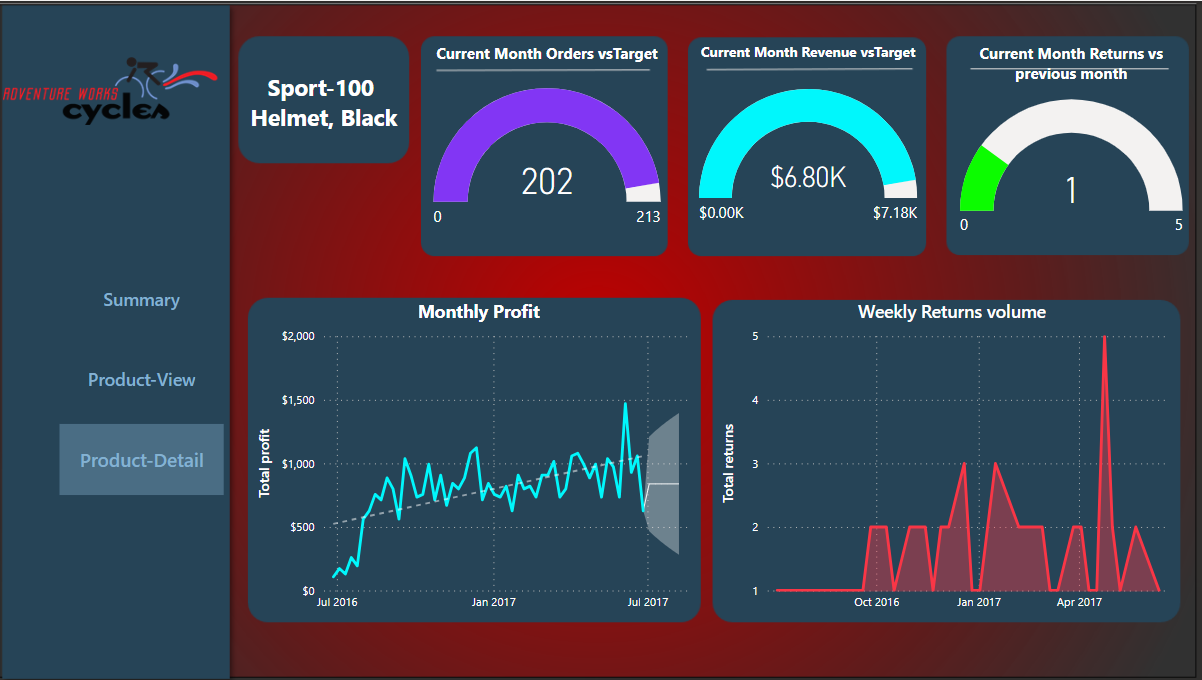

This screenshot's page, from the dashboard's own definition file:
{"tool":"powerbi","page":{"name":"Product-Detail","canvas":[1280,720],"ordinal":2},"visuals":[{"type":"gauge","title":"Current Month Orders vsTarget","fields":{"Y":["AW_Sales.Total orders"],"MaxValue":["AW_Sales.Order Target"]},"box":[456.2,44.5,251.1,225.7],"z":0},{"type":"gauge","title":"Current Month Revenue vsTarget","fields":{"Y":["AW_Sales.Total Revenue"],"MaxValue":["AW_Sales.Revenue Target"]},"box":[737.5,42.9,241.6,227.3],"z":1000},{"type":"gauge","title":"Current Month Returns vs previous month","fields":{"Y":["AW_Returns.Total returns"],"MaxValue":["AW_Returns.prev month returns"]},"box":[1014,44.5,246.4,225.7],"z":2000},{"type":"card","fields":{"Values":["Min(AW_product_lookup.ProductName)"]},"box":[257.5,42.9,174.8,124],"z":3000},{"type":"stackedAreaChart","title":"Weekly Returns volume","fields":{"Category":["AW_calender_lookup.Start of Week"],"Y":["AW_Returns.Total returns"]},"box":[761.3,316.3,499.1,338.5],"z":4000},{"type":"lineChart","title":"Monthly Profit","fields":{"Y":["AW_Sales.Total profit"],"Category":["AW_calender_lookup.Start of Week"]},"box":[270.2,316.3,478.4,338.5],"z":5000},{"type":"image","box":[0,0,240,190.7],"z":7000},{"type":"pageNavigator","box":[65.2,278.1,174.8,247.9],"z":7001}]}

Visuals, with their boxes in screenshot pixels (x1, y1, x2, y2), scaled from the page's 1280x720 canvas onto the 1202x680 screenshot:
"Current Month Orders vsTarget" gauge: (left=428, top=42, right=664, bottom=255)
"Current Month Revenue vsTarget" gauge: (left=693, top=41, right=919, bottom=255)
"Current Month Returns vs previous month" gauge: (left=952, top=42, right=1184, bottom=255)
card - Min(AW_product_lookup.ProductName): (left=242, top=41, right=406, bottom=158)
"Weekly Returns volume" stackedAreaChart: (left=715, top=299, right=1184, bottom=618)
"Monthly Profit" lineChart: (left=254, top=299, right=703, bottom=618)
image: (left=0, top=0, right=225, bottom=180)
pageNavigator: (left=61, top=263, right=225, bottom=497)
